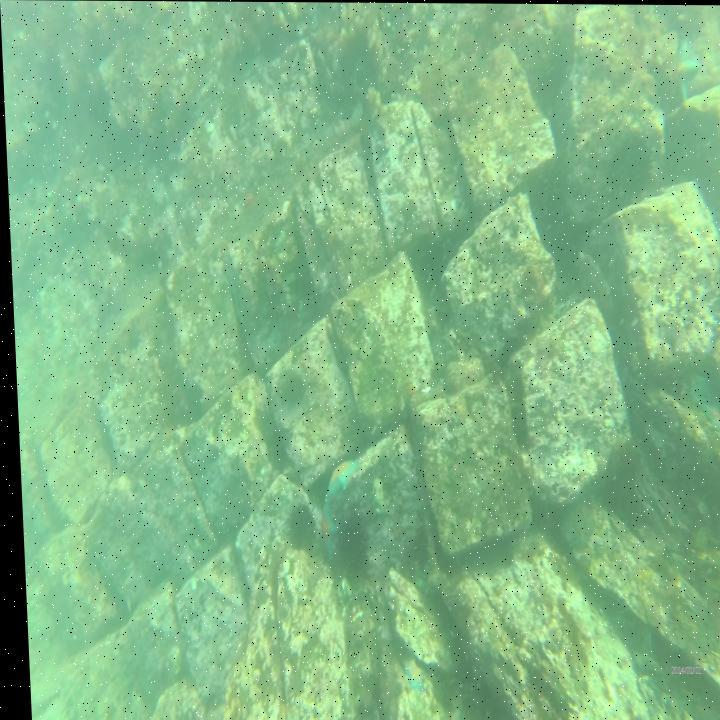echinus: (330, 510, 368, 583), (280, 498, 316, 553)
starfish: (665, 33, 700, 103), (321, 452, 357, 502), (309, 499, 335, 558), (696, 390, 720, 449), (397, 654, 421, 694)
